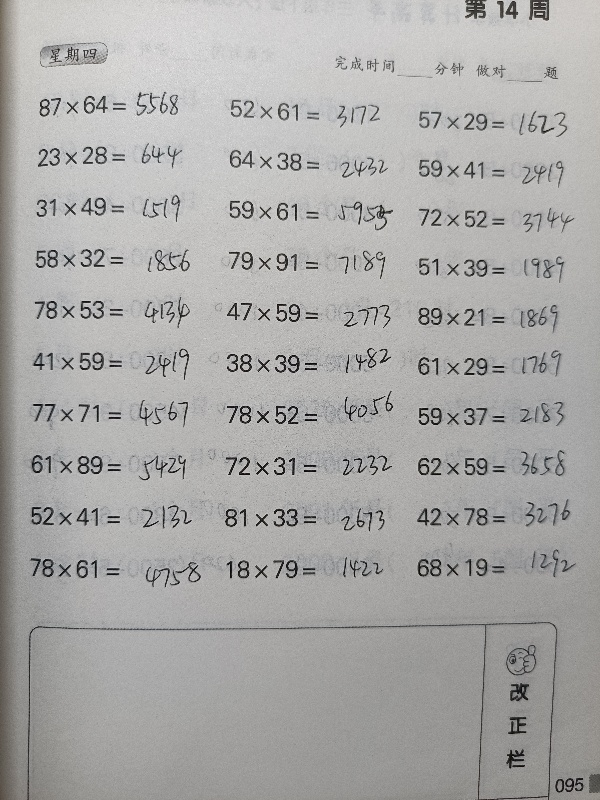equation: (30, 84, 210, 124), (21, 551, 201, 586), (220, 193, 400, 228), (28, 138, 208, 173), (219, 552, 399, 586), (409, 551, 589, 585), (216, 501, 396, 535), (408, 500, 588, 534), (22, 499, 202, 533), (217, 449, 397, 483), (21, 447, 201, 481), (219, 398, 399, 432), (25, 396, 205, 430), (408, 349, 588, 383), (217, 346, 397, 380), (218, 295, 398, 329), (27, 293, 207, 327), (409, 250, 589, 284), (220, 244, 400, 278), (26, 241, 206, 275), (27, 190, 207, 224), (220, 143, 400, 177), (221, 94, 401, 128), (409, 450, 589, 483), (410, 400, 590, 433), (24, 345, 204, 378), (409, 300, 589, 333), (410, 201, 590, 234), (409, 152, 589, 185), (410, 104, 590, 137)
